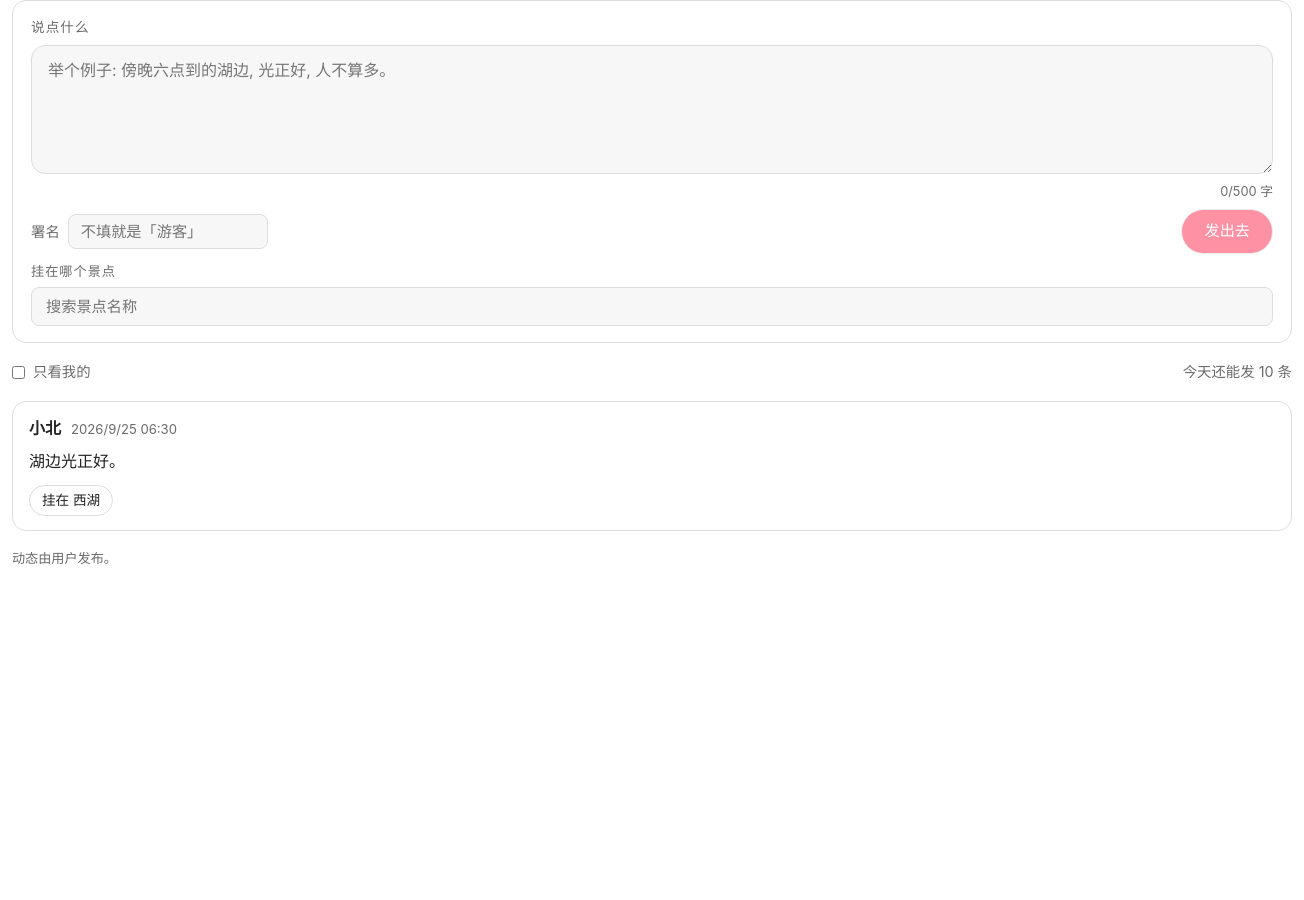
Test: PostsPage › 被限额拦下时说清「每天几条、什么时候能再来」
Type "再发一条" into the text box labelled "说点什么".
click(652, 110); type("再发一条")  # box [31,45,1273,174]
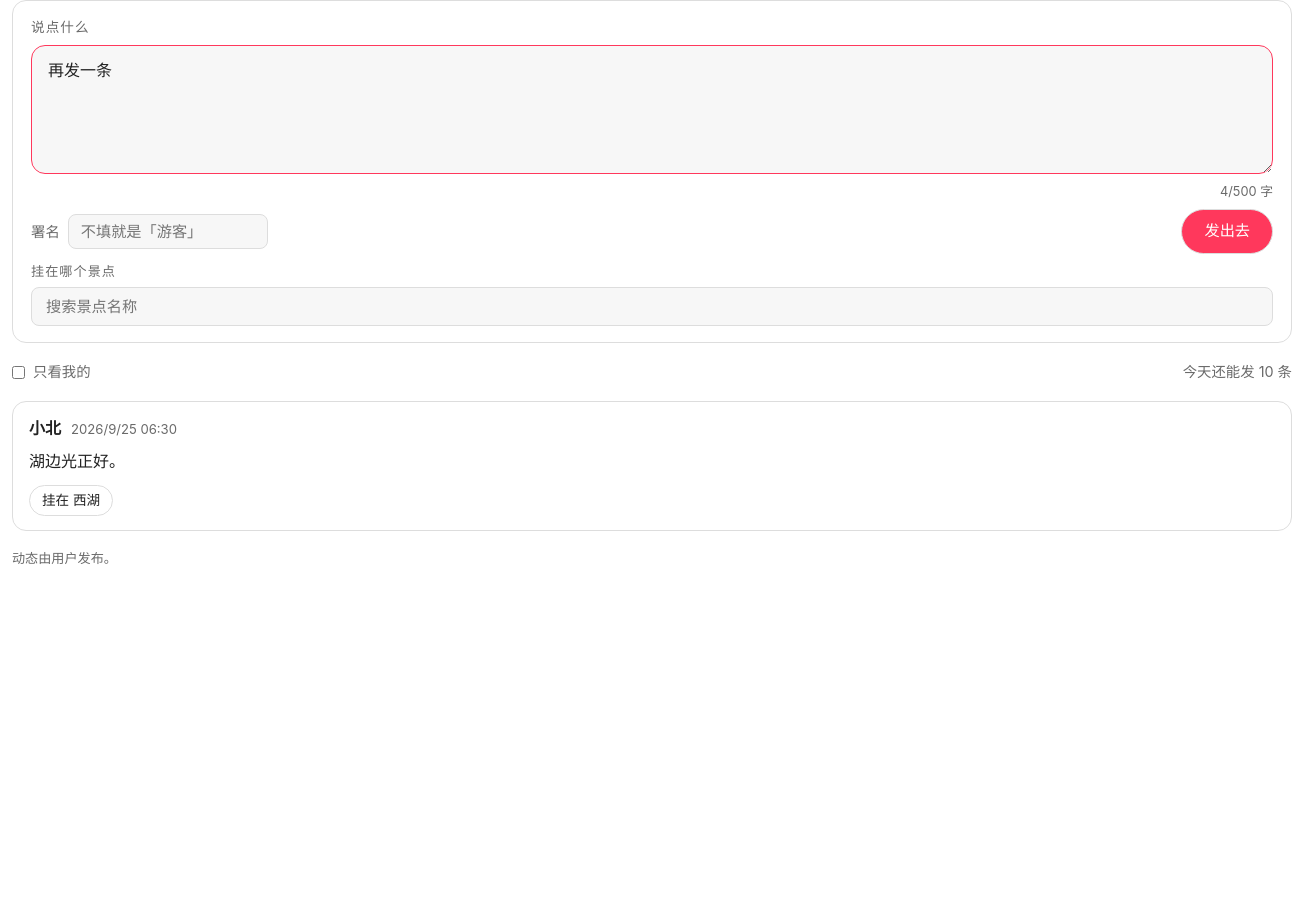
Click the button "发出去".
click(1227, 231)  # box [1181,209,1273,254]
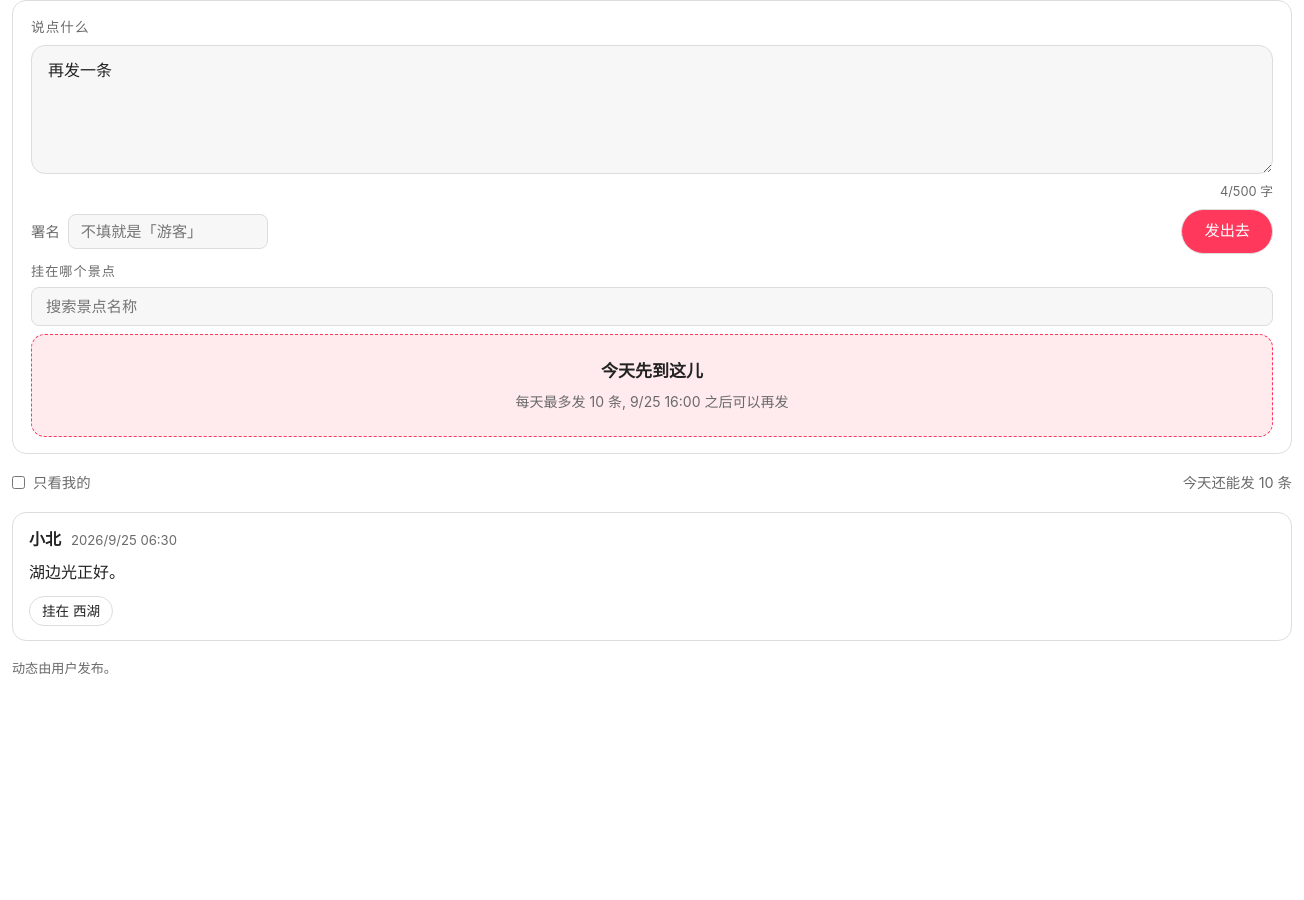
Result: the text "今天先到这儿" is shown at [601,361,703,381]
Result: the text "每天最多发 10 条, 9/25 16:00 之后可以再发" is shown at [516,393,788,410]
